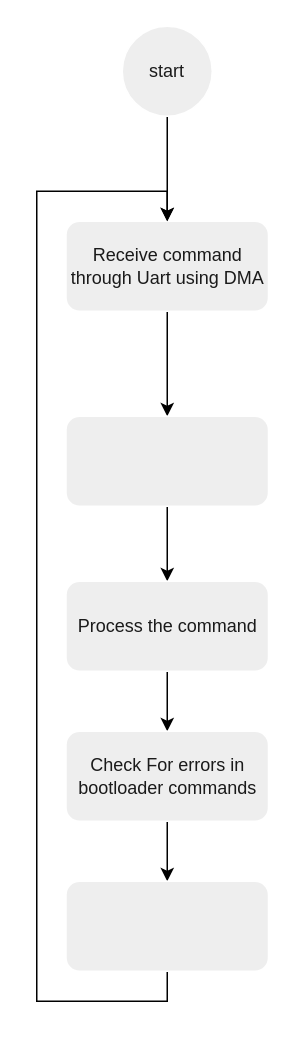
Image size: 296x1040. Some labels were removed from this diagram. The shapes that lost their labels are listed below. From the top down, each one's centre as x and y in pixels, then its label:
(x=166, y=460): identify which action needded
(x=166, y=925): Clear buffers and flags
